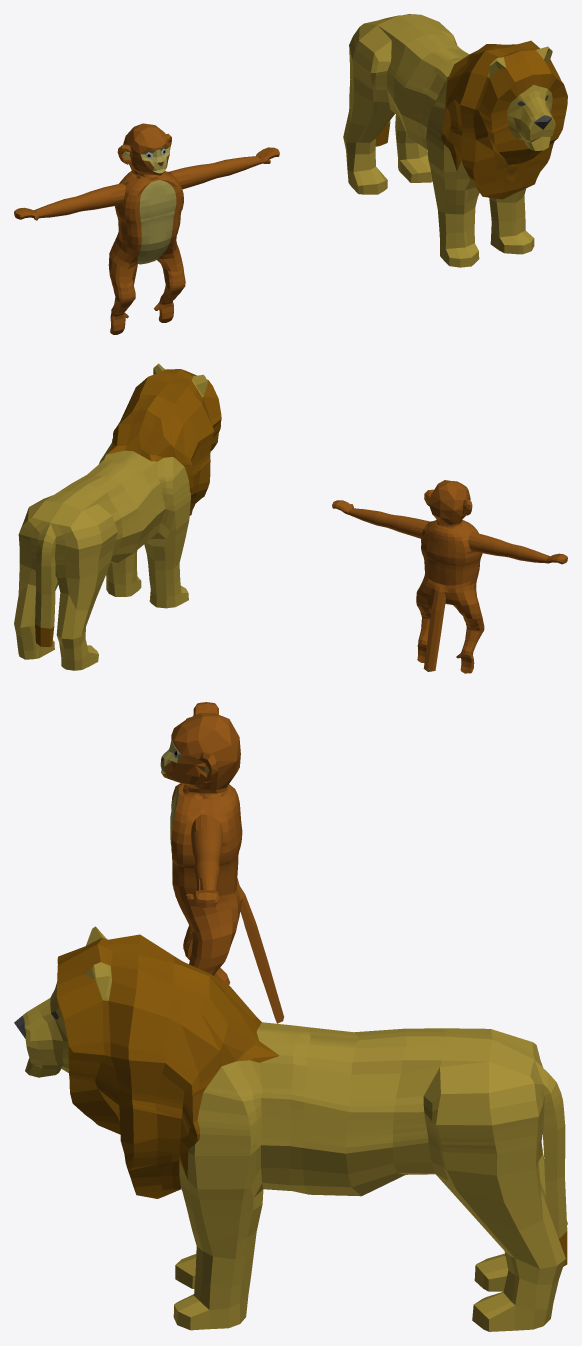
File: Fixed_Animals.fbx
The picture shows the model from 3 angles, top to bottom: view 1: azimuth 30°, elevation 25°; view 2: azimuth 150°, elevation 25°; view 3: azimuth 270°, elevation 25°; orthographic projection. The views are drawn at different scales.
Parts seen in each view (by area): view 1: Lion, Monkey; view 2: Lion, Monkey; view 3: Lion, Monkey.
Part boxes in pixels (box(x1,y1,x2,y2)): Lion: box(343, 14, 567, 267); Monkey: box(14, 123, 279, 334); Lion: box(14, 363, 221, 670); Monkey: box(332, 480, 567, 673); Lion: box(14, 926, 567, 1331); Monkey: box(160, 702, 283, 1023).
Size of the model in its own units: 619 by 259 by 368.
